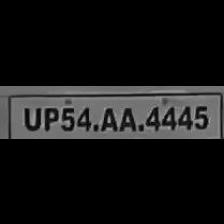4: (140, 101, 162, 131), (74, 103, 94, 131), (174, 102, 192, 130), (159, 101, 175, 131)
5: (190, 101, 210, 128), (58, 104, 74, 130)
A: (96, 103, 118, 131), (118, 103, 138, 131)
P: (40, 104, 58, 130)
U: (20, 104, 40, 130)
